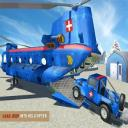helicopter: (1, 2, 99, 112)
